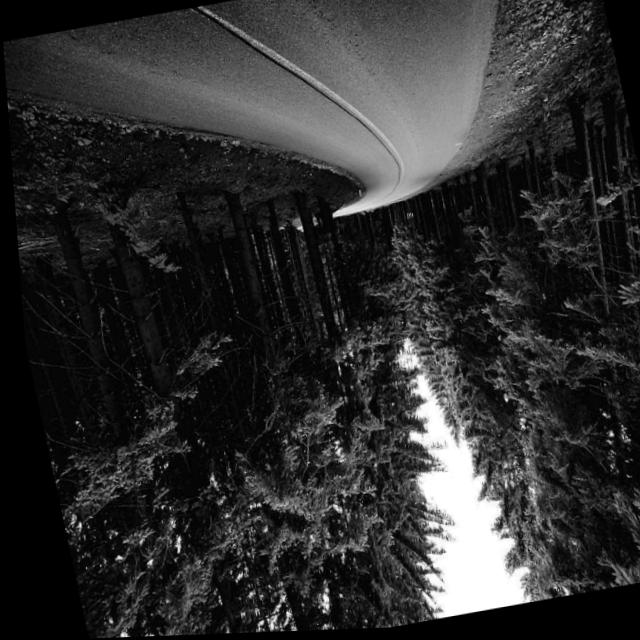cleat: (39, 0, 546, 365)
